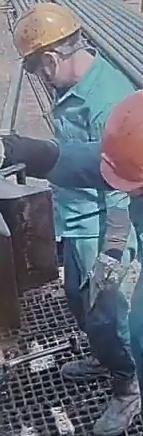gloves: (79, 251, 123, 313), (1, 132, 20, 171)
goggles: (19, 51, 53, 75)
helmet: (99, 88, 142, 192), (12, 2, 82, 58)
vest: (42, 79, 131, 251)
